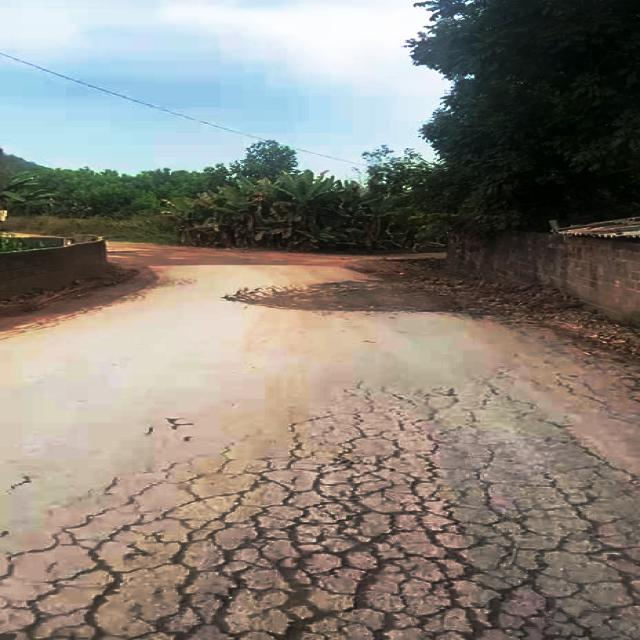pothole: (218, 275, 472, 316)
